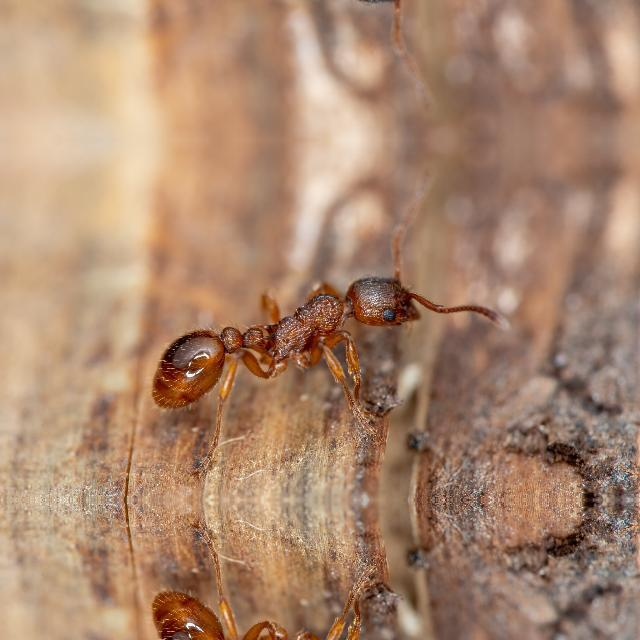Myrmica: (130, 246, 480, 427), (130, 572, 480, 640)
